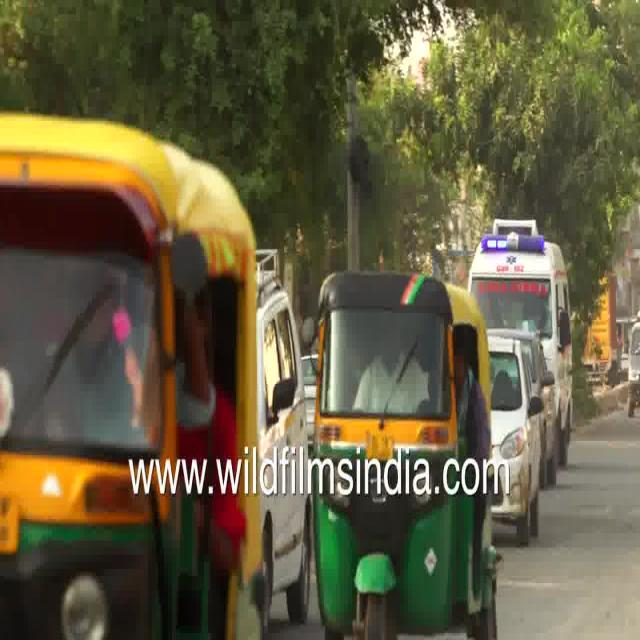ambulance: (465, 210, 579, 336)
